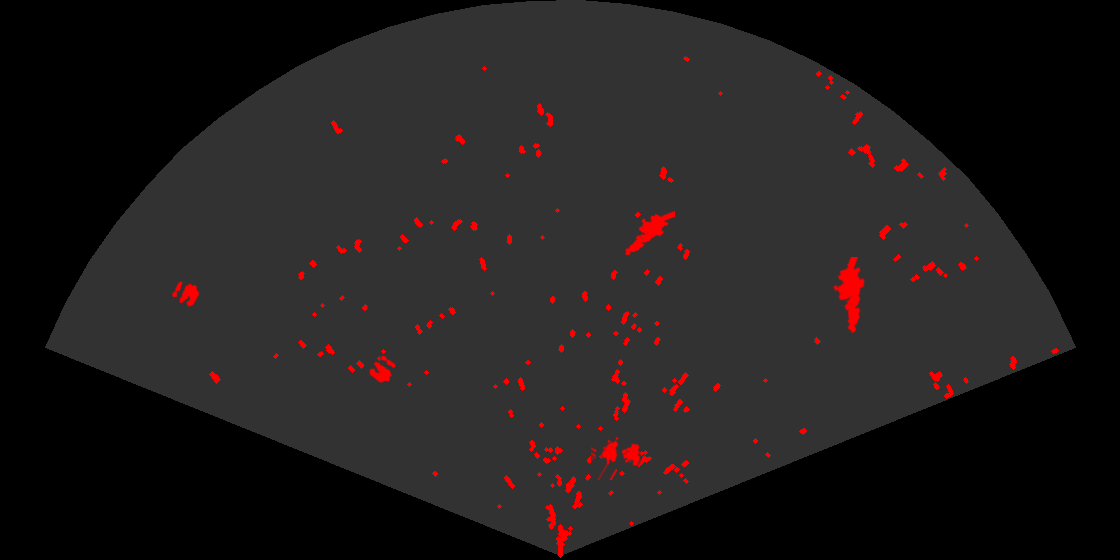ball: (368, 354, 397, 385), (170, 280, 201, 309)
cage: (591, 435, 642, 480)
frogman: (615, 209, 675, 258), (831, 257, 867, 335)
